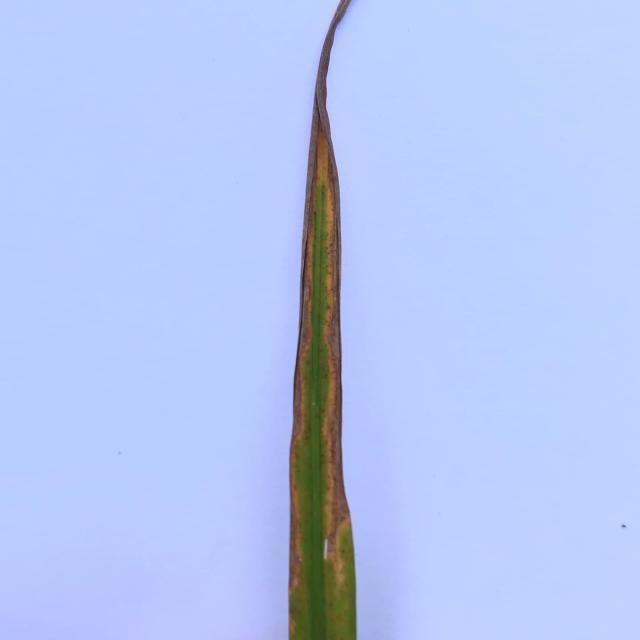Rice Tungro: (307, 54, 354, 611), (287, 279, 313, 597)
